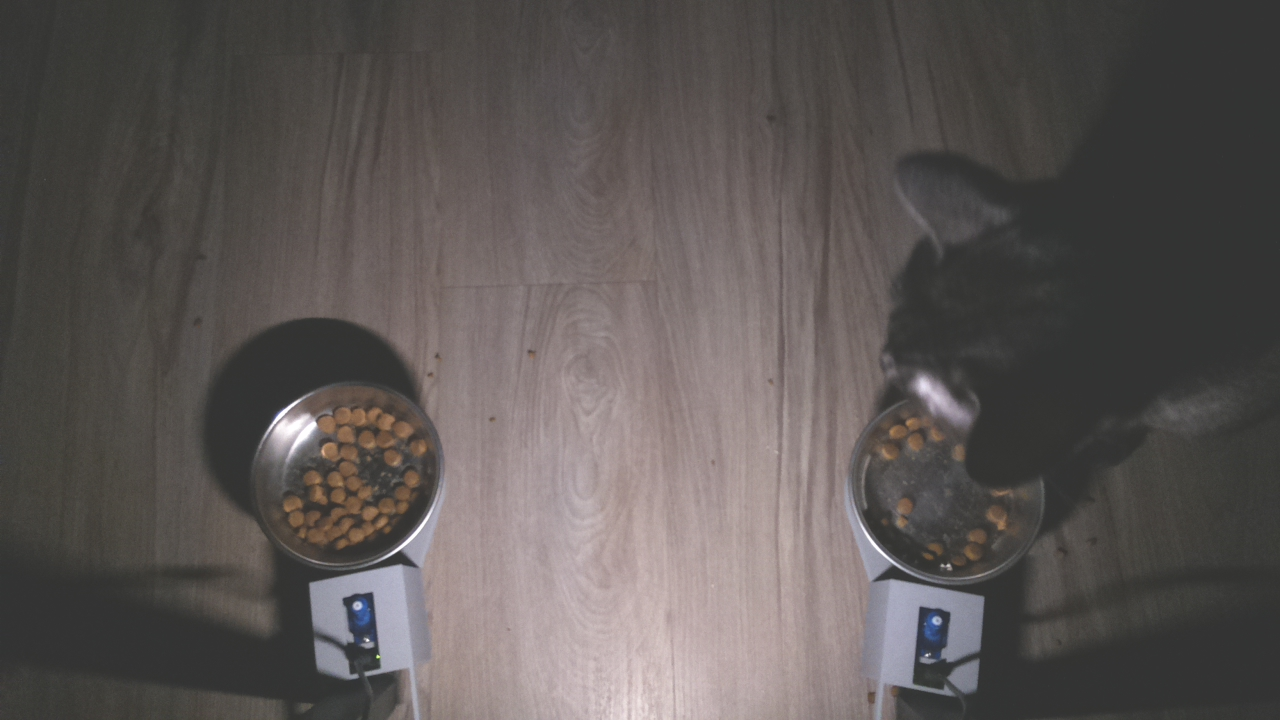open_bowl: (850, 390, 1055, 592), (247, 375, 449, 577)
saki: (859, 146, 1173, 494)
